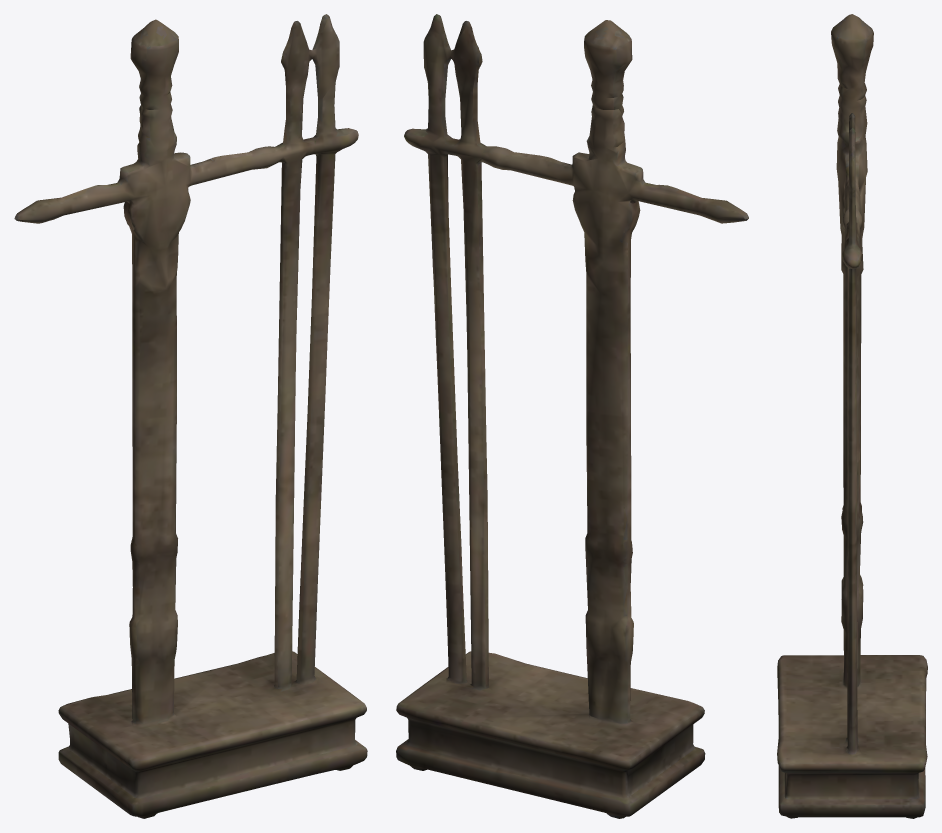
File: weathered-wood-weapon-rack-v002.glb
3 renders of one model, left to right at view 1: azimuth 30°, elevation 25°; view 2: azimuth 150°, elevation 25°; view 3: azimuth 270°, elevation 25°, orthographic. The views are drawn at different scales.
Visible parts, largest first — view 1: weathered-wood-weapon-rack; view 2: weathered-wood-weapon-rack; view 3: weathered-wood-weapon-rack.
Part boxes in pixels (box(x1,y1,x2,y2)): weathered-wood-weapon-rack: box(14, 14, 367, 818); weathered-wood-weapon-rack: box(396, 14, 748, 818); weathered-wood-weapon-rack: box(777, 14, 927, 818).
Bounding box in the file's own units: 0.8487 × 1.8 × 0.3374.
Materials: 1 (1 with a texture image).
